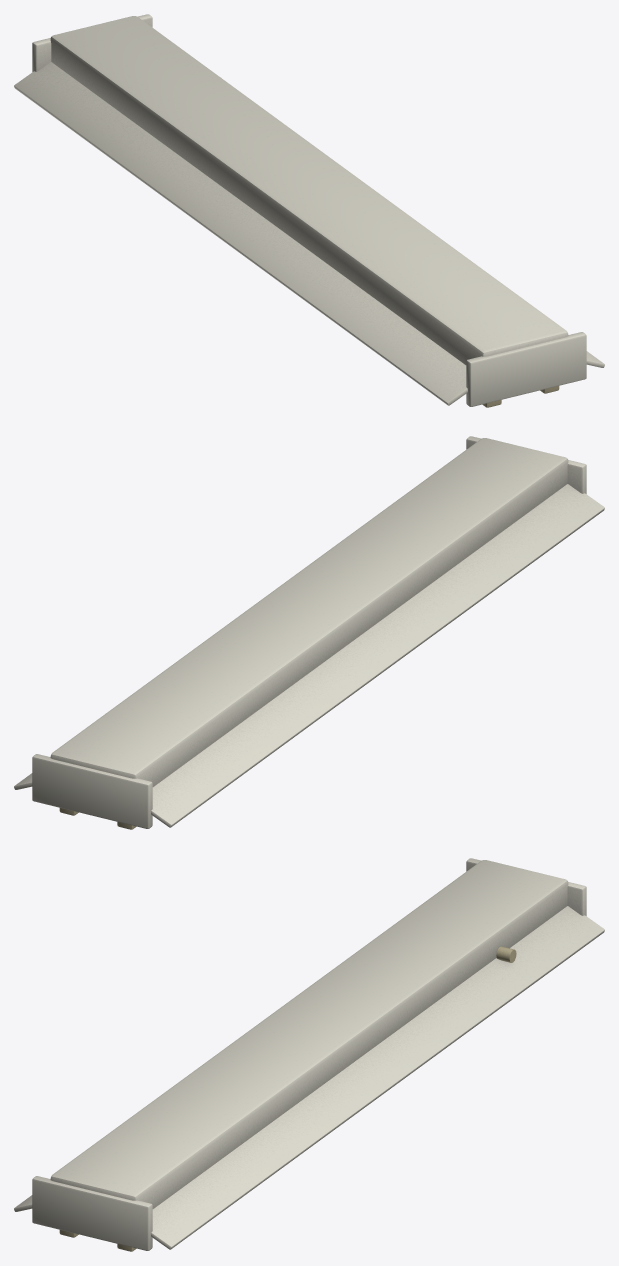
File: CTCC_ENV_FluorescentFixture.fbx
3 views of the same model, one above another, from view 1: azimuth 30°, elevation 25°; view 2: azimuth 150°, elevation 25°; view 3: azimuth 330°, elevation 25° (orthographic).
Visible parts, largest first — view 1: CTCC_ENV_FluorescentFixture_LOD0; view 2: CTCC_ENV_FluorescentFixture_LOD0; view 3: CTCC_ENV_FluorescentFixture_LOD0.
Part boxes in pixels (<box>): CTCC_ENV_FluorescentFixture_LOD0: <box>14,14,604,407</box>; CTCC_ENV_FluorescentFixture_LOD0: <box>14,436,604,829</box>; CTCC_ENV_FluorescentFixture_LOD0: <box>14,858,604,1251</box>.
Size of what is drawn, in the model's own units: 0.2626 by 0.0962 by 1.26.
